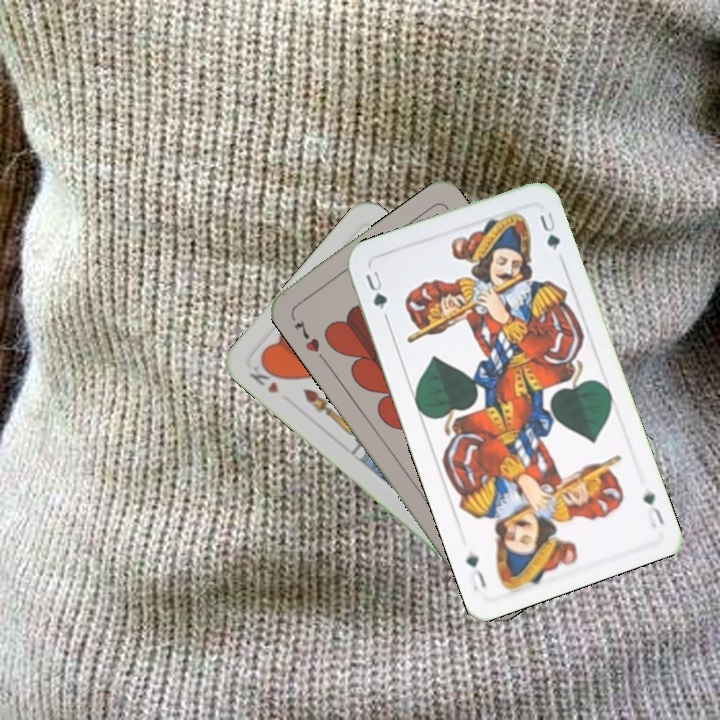GU: (361, 266, 390, 313), (638, 487, 667, 528)
H7: (290, 315, 323, 355)
HK: (245, 358, 285, 396)
